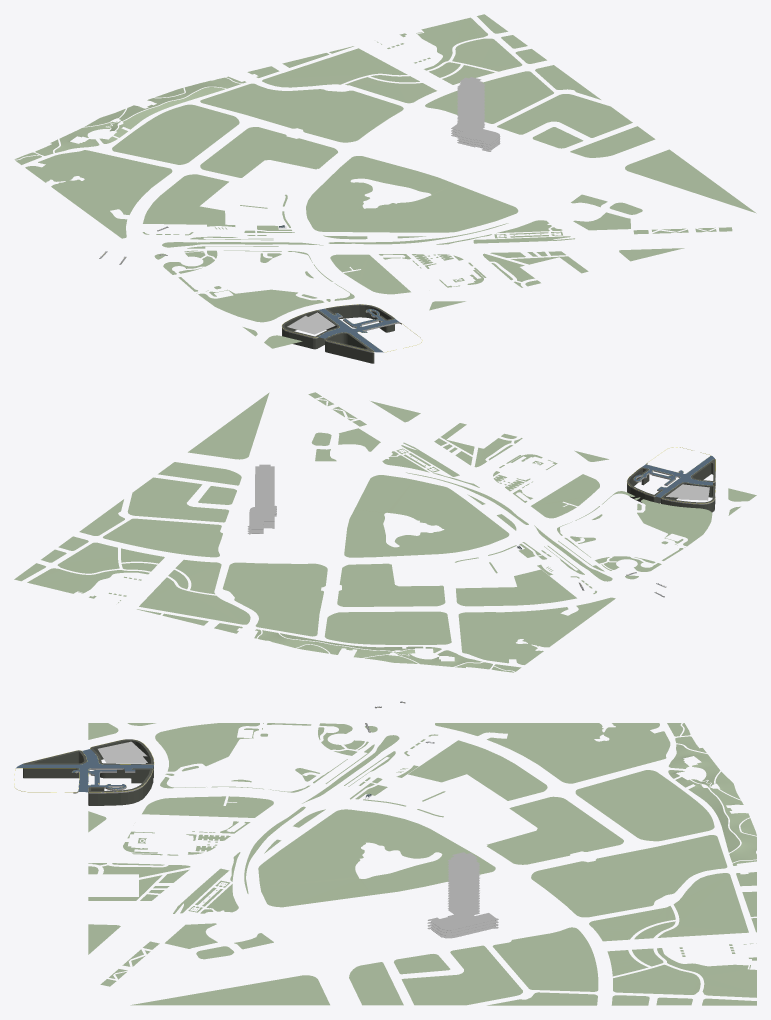
Rendered from lujiazui-18.glb.
3 views of the same model, one above another, from view 1: azimuth 30°, elevation 25°; view 2: azimuth 150°, elevation 25°; view 3: azimuth 270°, elevation 25° (orthographic). The views are drawn at different scales.
Parts seen in each view (by area): view 1: source_3121_Mat3d66-1303573-2055-5153_part0, source_3360_Mat3d66-1303573-2112-4460_part0, source_3120_Mat3d66-1303573-2153-4388_part0, source_3301_Mat3d66-1303573-2113-6182_part0, source_3248_Mat3d66-1303573-2095-4192_part0; view 2: source_3121_Mat3d66-1303573-2055-5153_part0, source_3360_Mat3d66-1303573-2112-4460_part0, source_3120_Mat3d66-1303573-2153-4388_part0, source_3301_Mat3d66-1303573-2113-6182_part0, source_3248_Mat3d66-1303573-2095-4192_part0; view 3: source_3121_Mat3d66-1303573-2055-5153_part0, source_3360_Mat3d66-1303573-2112-4460_part0, source_3120_Mat3d66-1303573-2153-4388_part0, source_3301_Mat3d66-1303573-2113-6182_part0, source_3248_Mat3d66-1303573-2095-4192_part0.
Boxes of the visible parts, bbox=[...] form: source_3121_Mat3d66-1303573-2055-5153_part0: bbox=[14, 14, 756, 348]; source_3360_Mat3d66-1303573-2112-4460_part0: bbox=[282, 304, 394, 363]; source_3120_Mat3d66-1303573-2153-4388_part0: bbox=[451, 77, 500, 151]; source_3301_Mat3d66-1303573-2113-6182_part0: bbox=[318, 308, 399, 352]; source_3248_Mat3d66-1303573-2095-4192_part0: bbox=[287, 312, 335, 334]; source_3121_Mat3d66-1303573-2055-5153_part0: bbox=[14, 392, 756, 672]; source_3360_Mat3d66-1303573-2112-4460_part0: bbox=[627, 459, 715, 512]; source_3120_Mat3d66-1303573-2153-4388_part0: bbox=[247, 464, 276, 534]; source_3301_Mat3d66-1303573-2113-6182_part0: bbox=[634, 455, 714, 497]; source_3248_Mat3d66-1303573-2095-4192_part0: bbox=[666, 484, 709, 500]; source_3121_Mat3d66-1303573-2055-5153_part0: bbox=[88, 723, 756, 1005]; source_3360_Mat3d66-1303573-2112-4460_part0: bbox=[23, 739, 153, 805]; source_3120_Mat3d66-1303573-2153-4388_part0: bbox=[427, 852, 498, 938]; source_3301_Mat3d66-1303573-2113-6182_part0: bbox=[16, 749, 153, 792]; source_3248_Mat3d66-1303573-2095-4192_part0: bbox=[98, 741, 147, 762].
Bounding box in the file's own units: 1182 × 149 × 1222.
